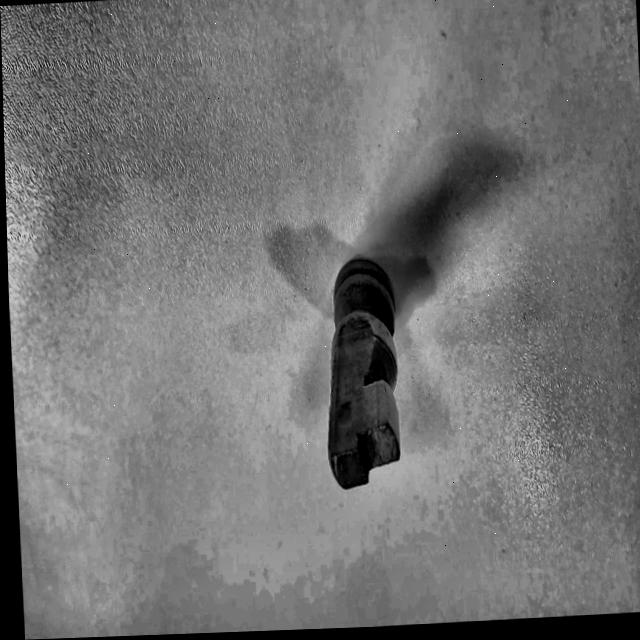black-knight: (302, 238, 419, 503)
